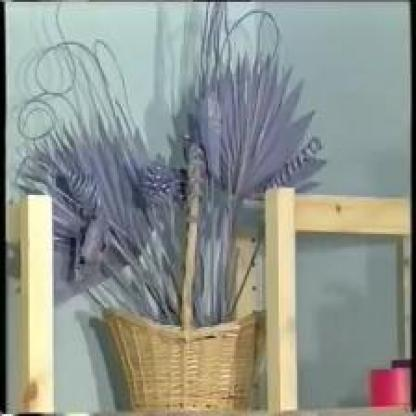other: (18, 196, 66, 382)
